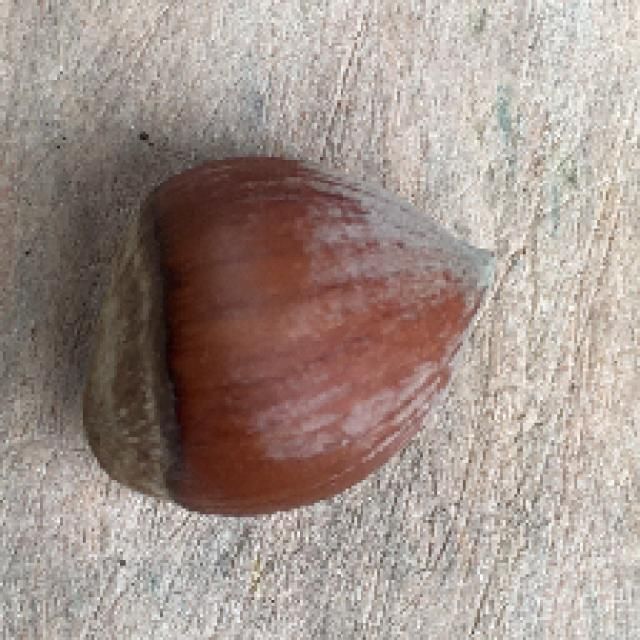qualityHazelnut: (82, 143, 506, 522)
